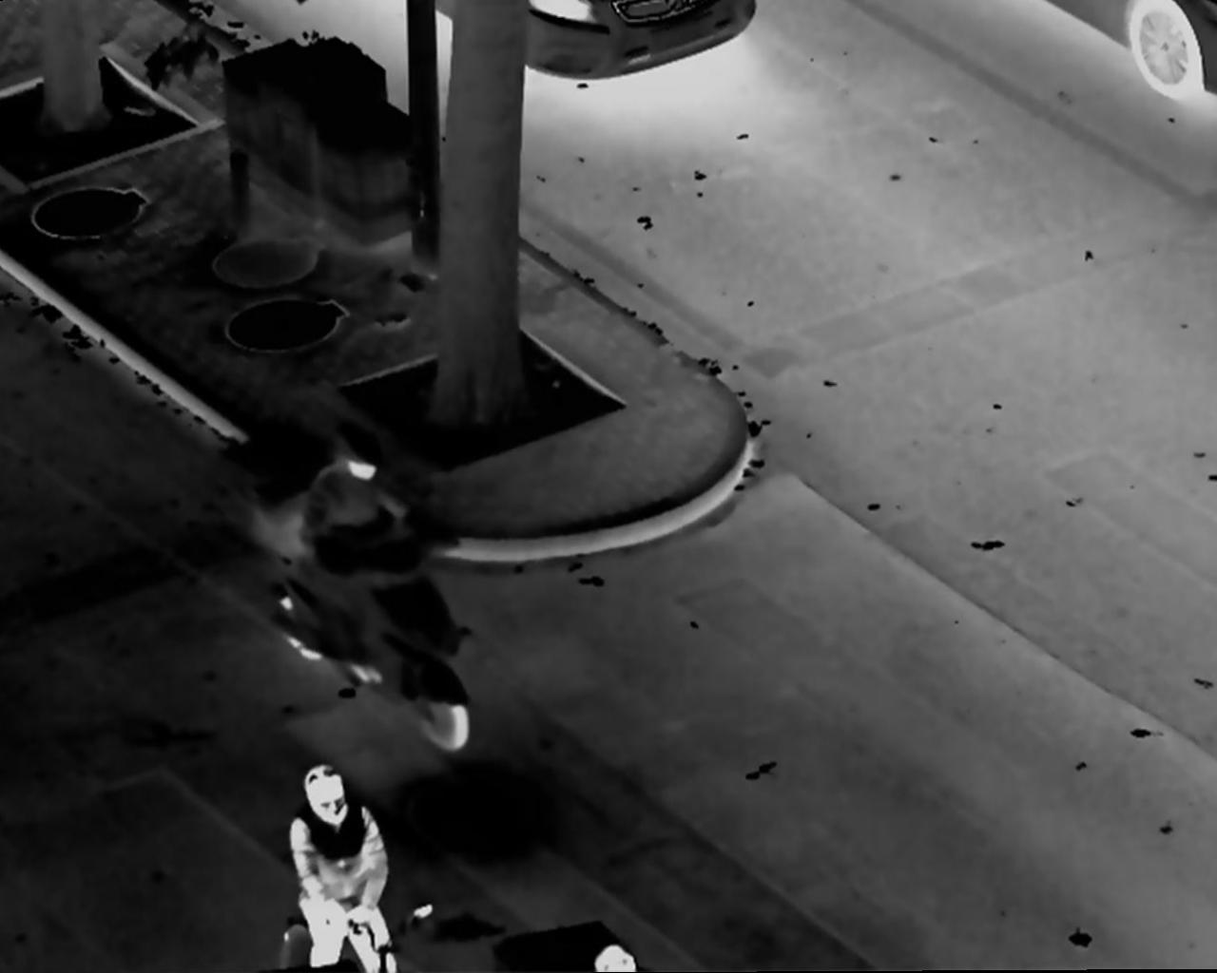person: (298, 415, 429, 684), (281, 763, 402, 973)
